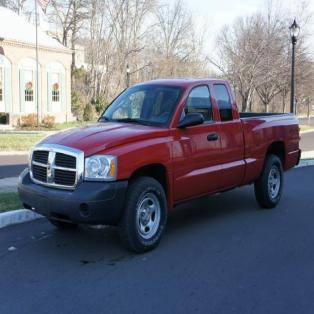Auto: (19, 76, 303, 252)
